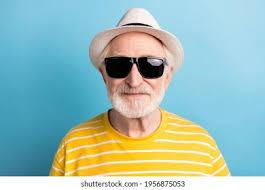cap: (85, 6, 186, 69)
sunglasses: (103, 50, 165, 79)
